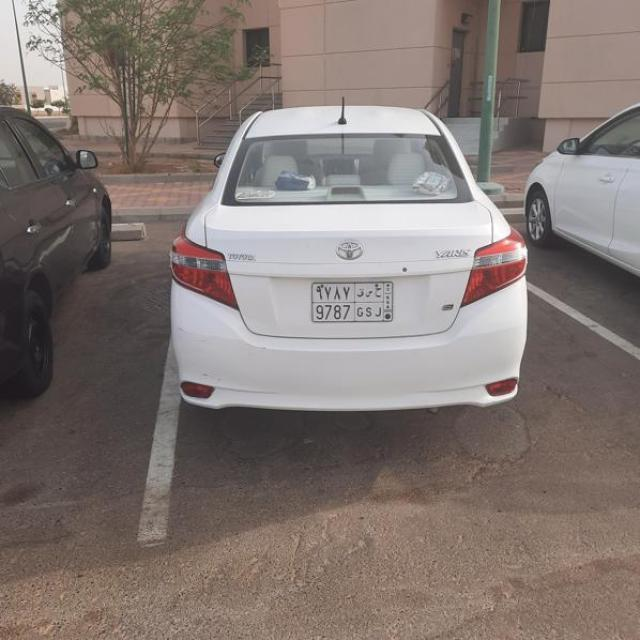license_plate: (311, 282, 394, 322)
